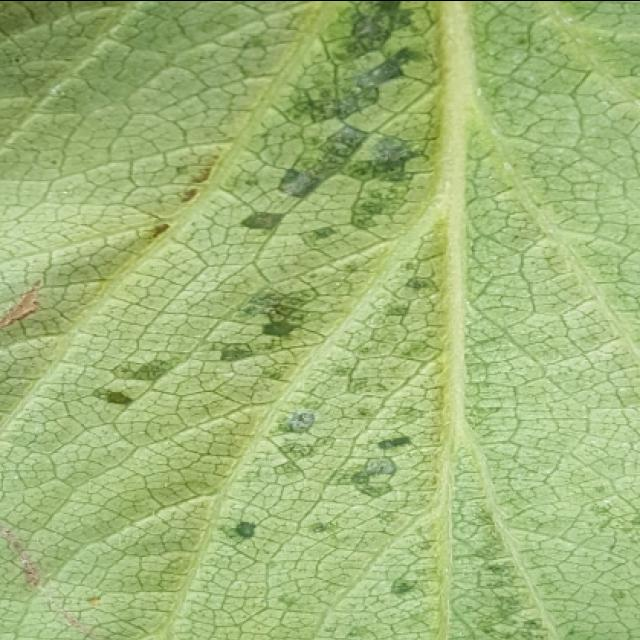Angular Leafspot: (82, 2, 452, 618)
